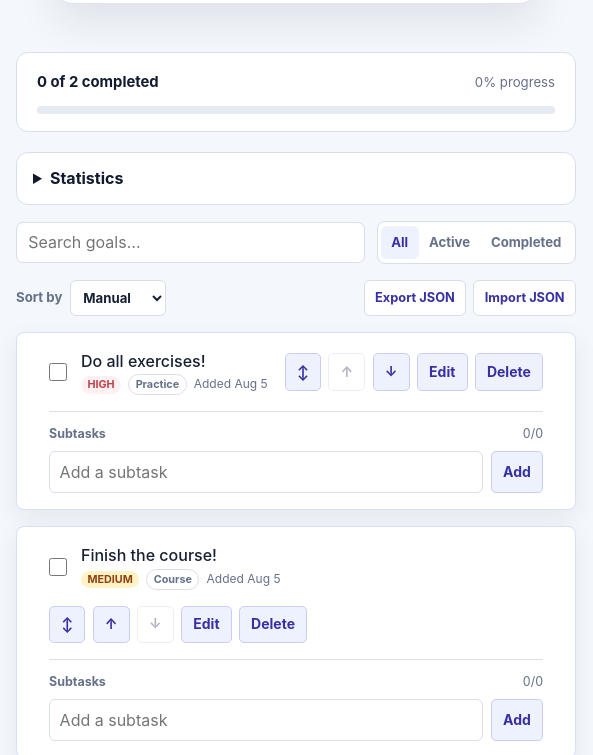
Scenario: Course Goals › marks goals as completed and filters the list
(page scrolled)
Click the checkbox labelled "Do all exercises! high Practice Added Aug 5" at (58, 372), box [49,363,67,381]
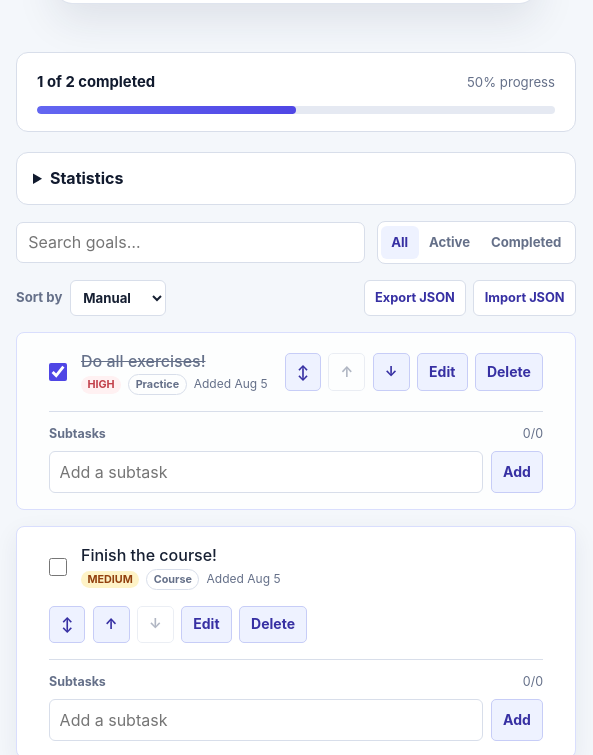
Expected: the text "1 of 2 completed" is shown, [37,71,155,94]
Click the button "Active" at (450, 242), box [418,226,480,259]
(page scrolled)
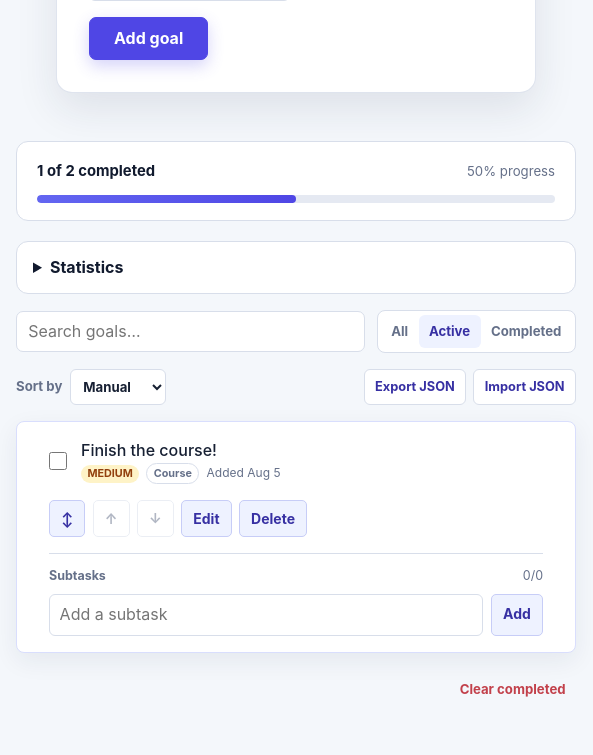
Expected: the text "Finish the course!" is shown, [81,440,217,460]
Expected: the text "Do all exercises!" is gone
